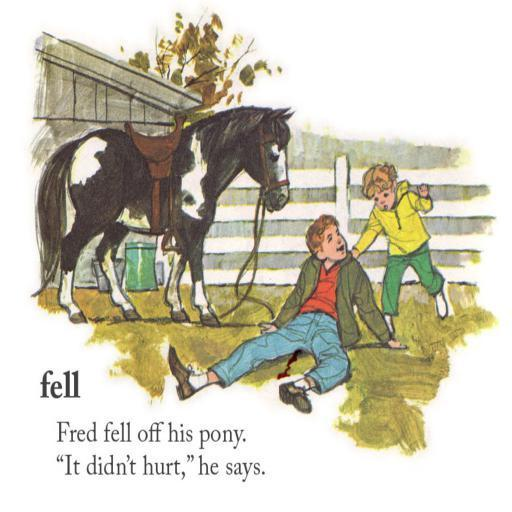horse: (28, 104, 298, 328)
